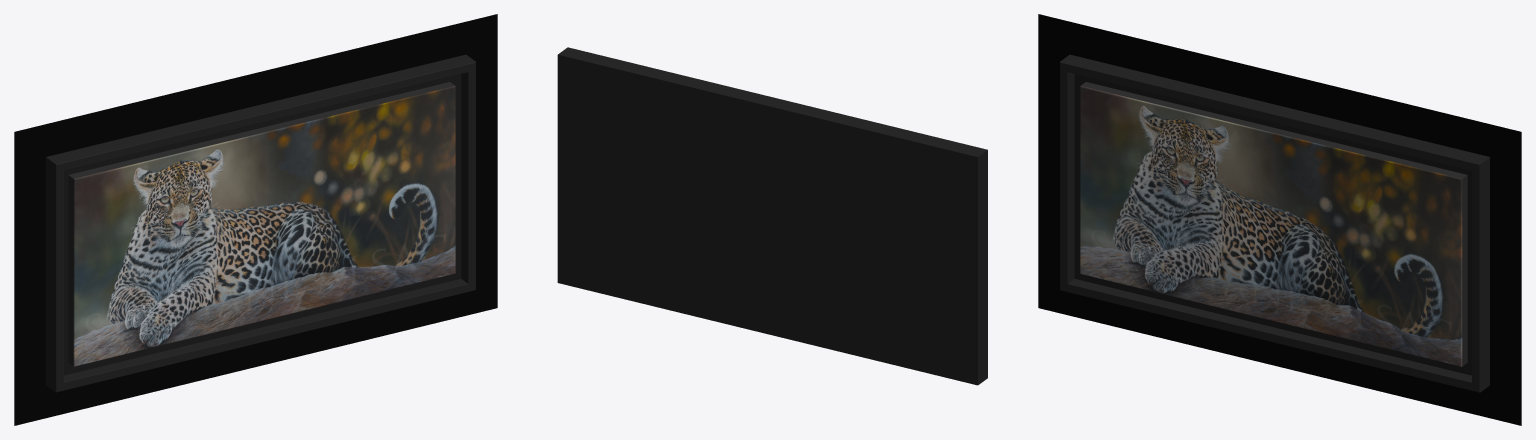
File: tableau-leopard-classique-f848a34a.glb
3 renders of one model, left to right at view 1: azimuth 30°, elevation 25°; view 2: azimuth 150°, elevation 25°; view 3: azimuth 330°, elevation 25°, orthographic.
Visible parts, largest first — view 1: Painting; view 2: Painting; view 3: Painting.
Part boxes in pixels (<box>): Painting: <box>14,14,497,425</box>; Painting: <box>557,47,987,385</box>; Painting: <box>1038,14,1521,425</box>.
Bounding box in the file's own units: 1.08 × 0.626 × 0.04.
5 materials, 3 textured.
